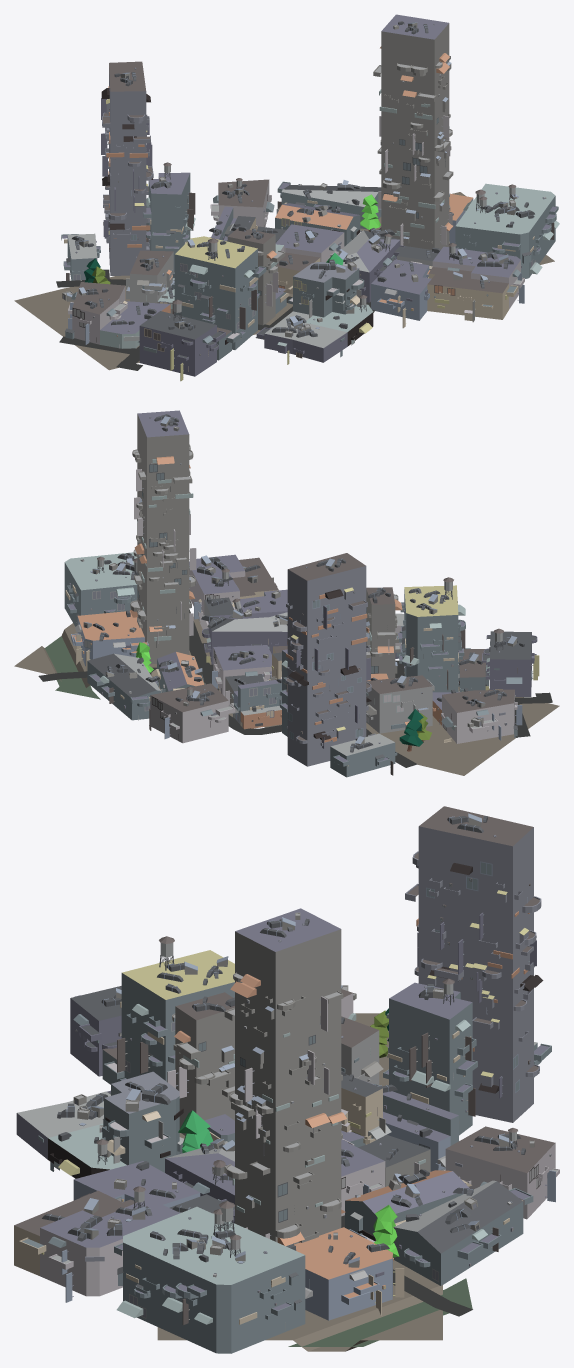
The model's file is MN_Env3.fbx.
3 renders of one model, top to bottom at view 1: azimuth 30°, elevation 25°; view 2: azimuth 150°, elevation 25°; view 3: azimuth 270°, elevation 25°, orthographic. The views are drawn at different scales.
Visible parts, largest first — view 1: Env_MN_03; view 2: Env_MN_03; view 3: Env_MN_03.
Boxes of the visible parts, left/top/right/bottom form: Env_MN_03: left=14, top=14, right=559, bottom=381; Env_MN_03: left=14, top=410, right=559, bottom=777; Env_MN_03: left=14, top=806, right=559, bottom=1353.
Size of the model in its own units: 8563 by 4132 by 5645.
